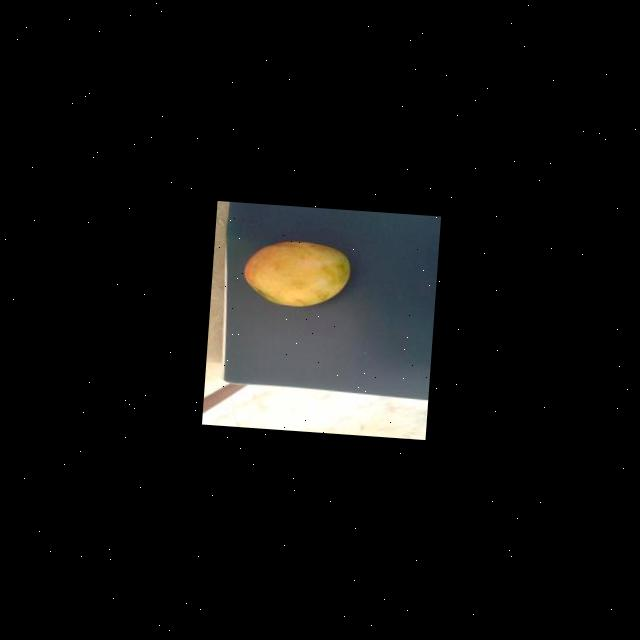Mango: (239, 237, 351, 310)
